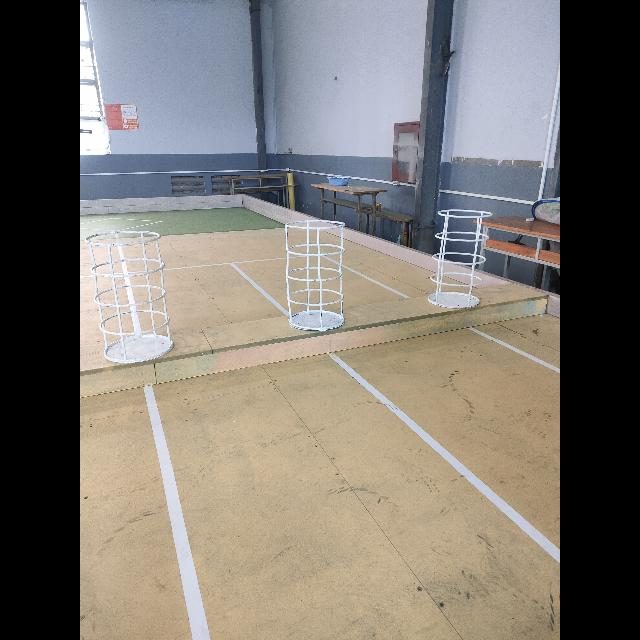S: (82, 230, 177, 366), (283, 217, 346, 334), (424, 207, 493, 313)
